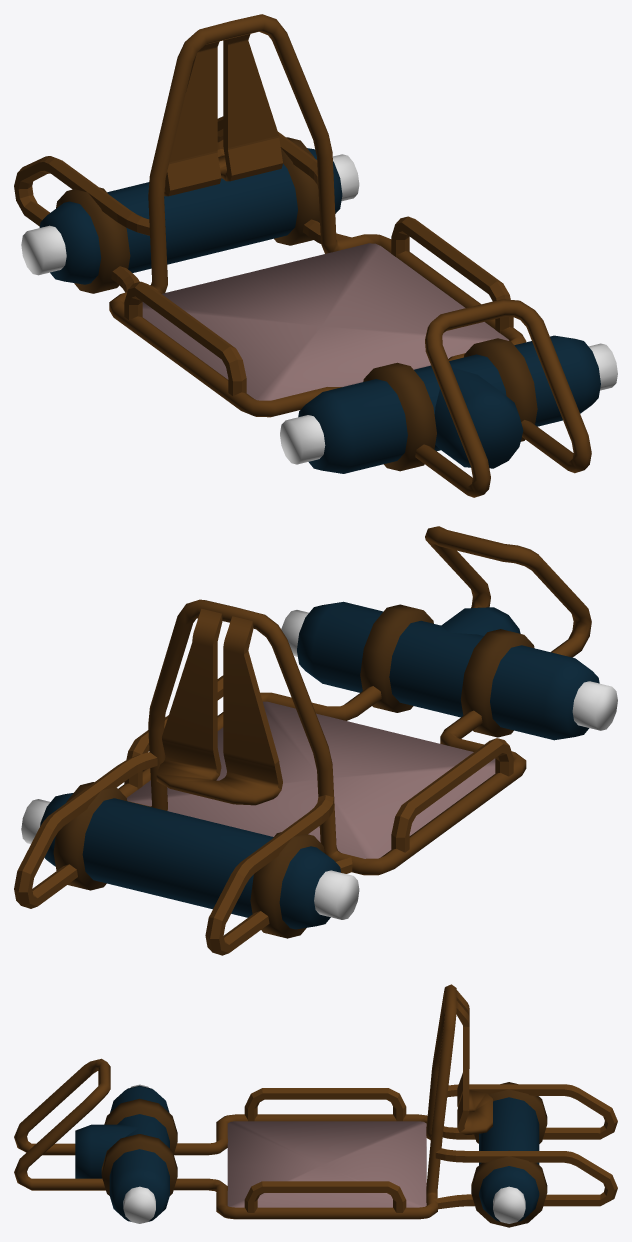
File: Chasis1.fbx
3 renders of one model, top to bottom at view 1: azimuth 30°, elevation 25°; view 2: azimuth 150°, elevation 25°; view 3: azimuth 270°, elevation 25°, orthographic. The views are drawn at different scales.
Parts seen in each view (by area): view 1: Chasis1; view 2: Chasis1; view 3: Chasis1.
Boxes of the visible parts, bbox=[...] form: Chasis1: bbox=[14, 14, 617, 497]; Chasis1: bbox=[14, 526, 617, 955]; Chasis1: bbox=[14, 984, 617, 1227].
Size of the model in its own units: 1.49 by 1.23 by 3.47.
